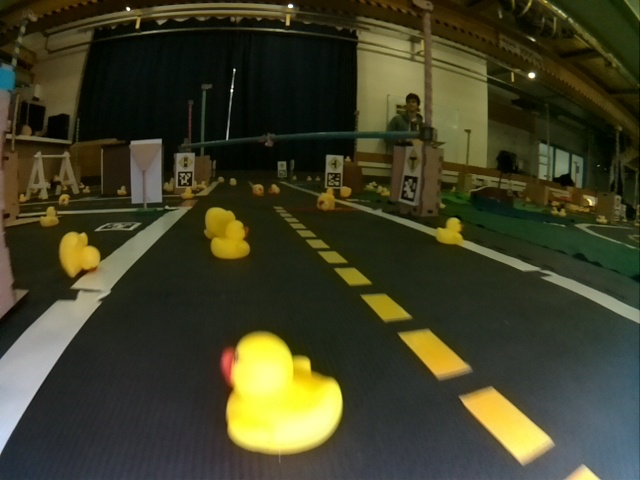Duckie: (219, 331, 344, 454), (59, 232, 100, 275), (215, 222, 251, 258), (204, 207, 235, 235), (436, 217, 461, 245), (317, 193, 334, 211), (44, 212, 57, 227), (253, 184, 262, 194)
Intersection sign: (405, 149, 420, 172), (330, 157, 342, 169)
QR code: (399, 175, 419, 202), (97, 221, 141, 231), (177, 172, 191, 186), (327, 173, 340, 188)
Signal sign: (178, 155, 191, 168)
